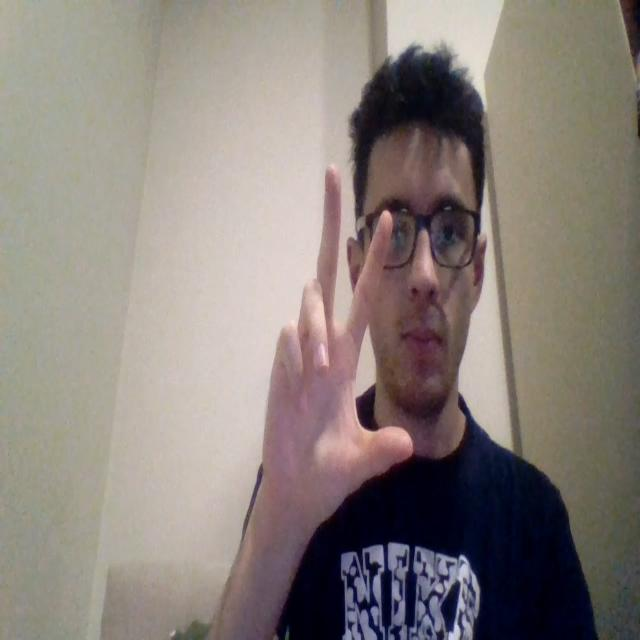no: (253, 161, 414, 555)
